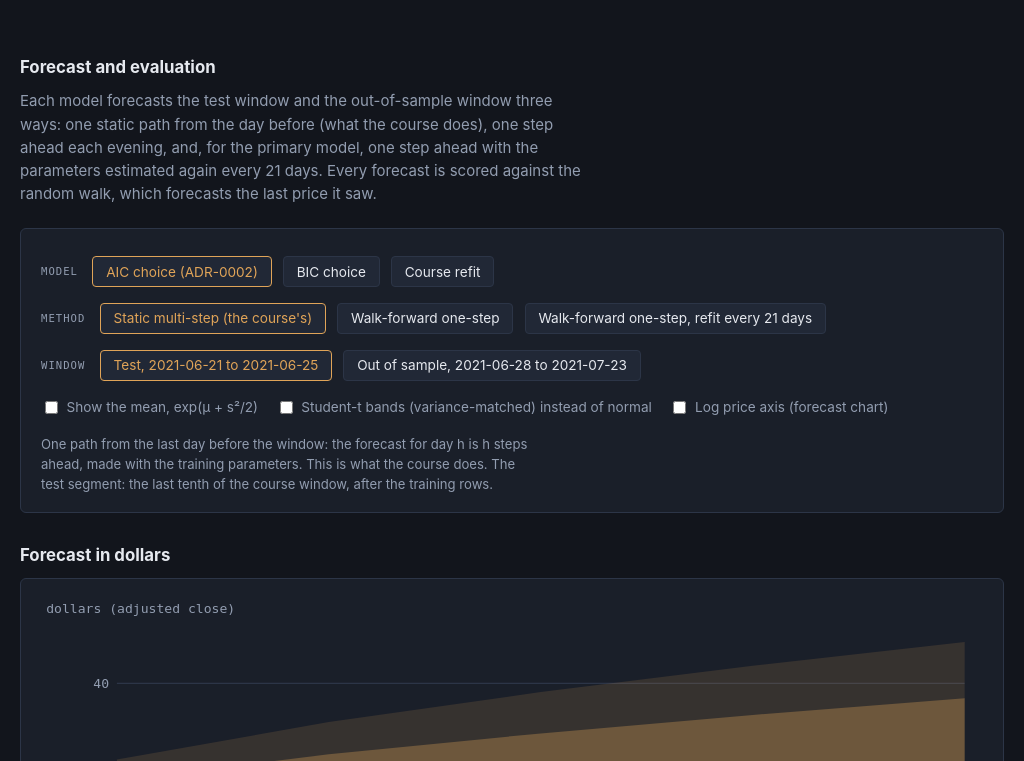
Test: ForecastPage › draws the static random walk at the origin’s price for the static method only
The width and height of the screenshot is (1024, 761).
Click the radio button labelled "Walk-forward one-step" at (425,318), box left=337, top=303, right=513, bottom=334
(page scrolled)
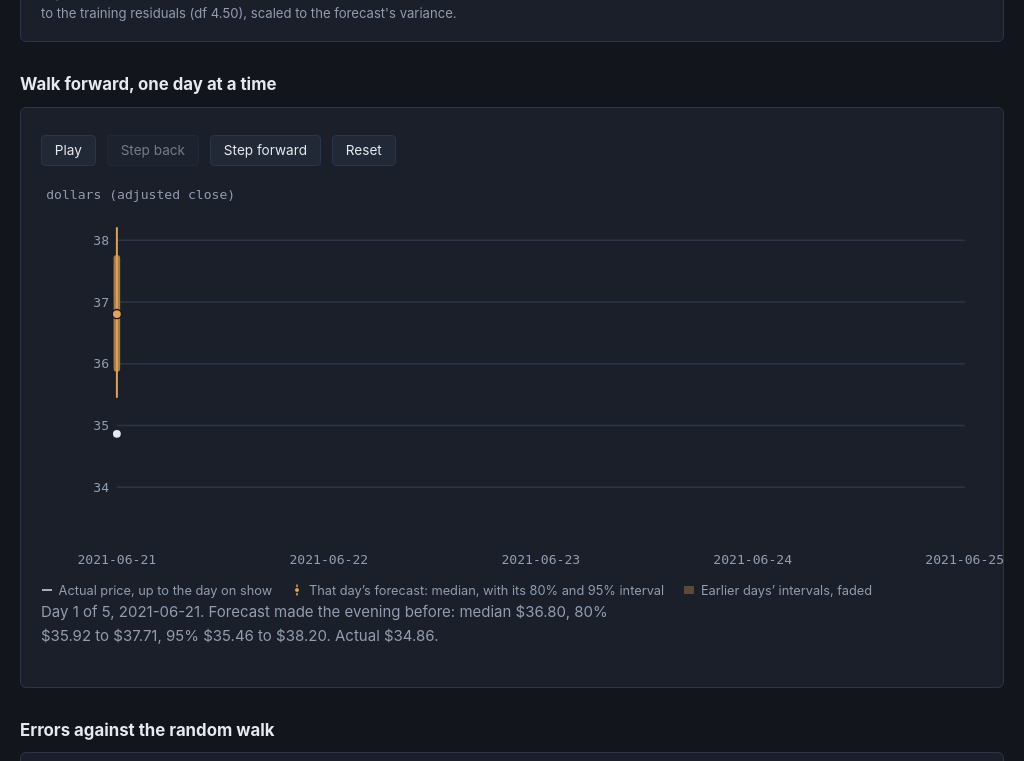
Check: the picture with test id "walk-chart" is shown, box left=41, top=182, right=983, bottom=574
